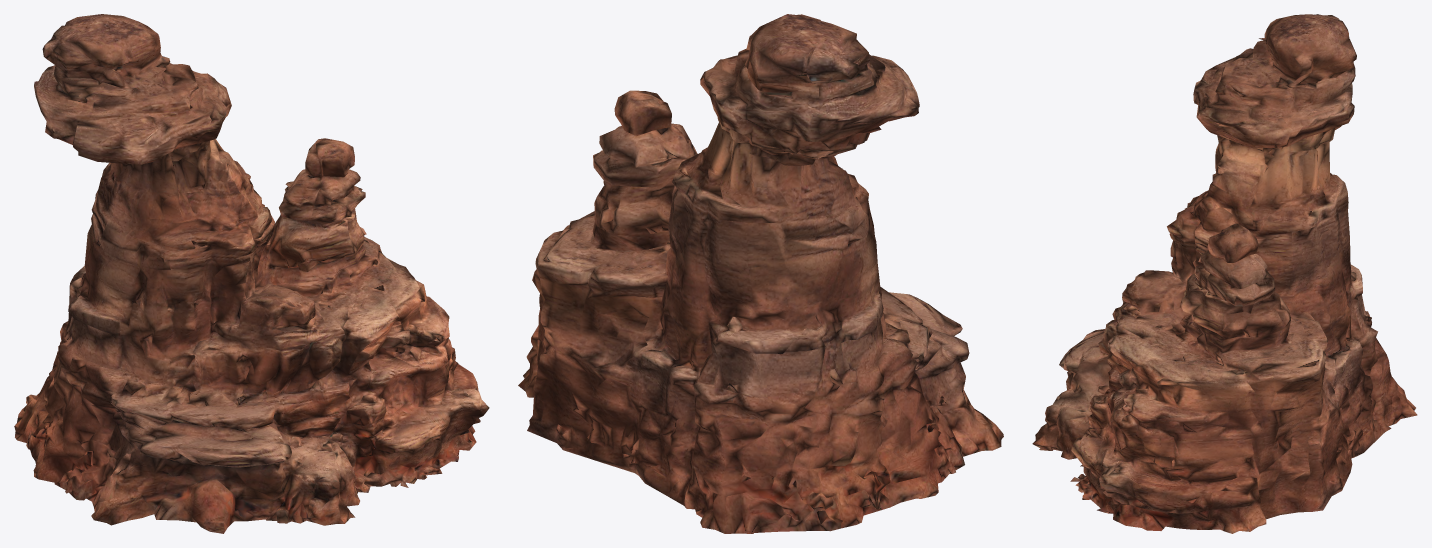
Rendered from Desert_Mushroom_Rock.glb.
3 views of the same model, side by side, from view 1: azimuth 30°, elevation 25°; view 2: azimuth 150°, elevation 25°; view 3: azimuth 270°, elevation 25° (orthographic). The views are drawn at different scales.
Parts seen in each view (by area): view 1: Desert_Mushroom_Rock; view 2: Desert_Mushroom_Rock; view 3: Desert_Mushroom_Rock.
Boxes of the visible parts, box(x1,y1,x2,y2) form: Desert_Mushroom_Rock: box(14, 14, 489, 533); Desert_Mushroom_Rock: box(518, 14, 1003, 533); Desert_Mushroom_Rock: box(1032, 14, 1417, 533).
Size of the model in its own units: 1.87 by 1.9 by 1.75.
Materials: 1 (1 with a texture image).
